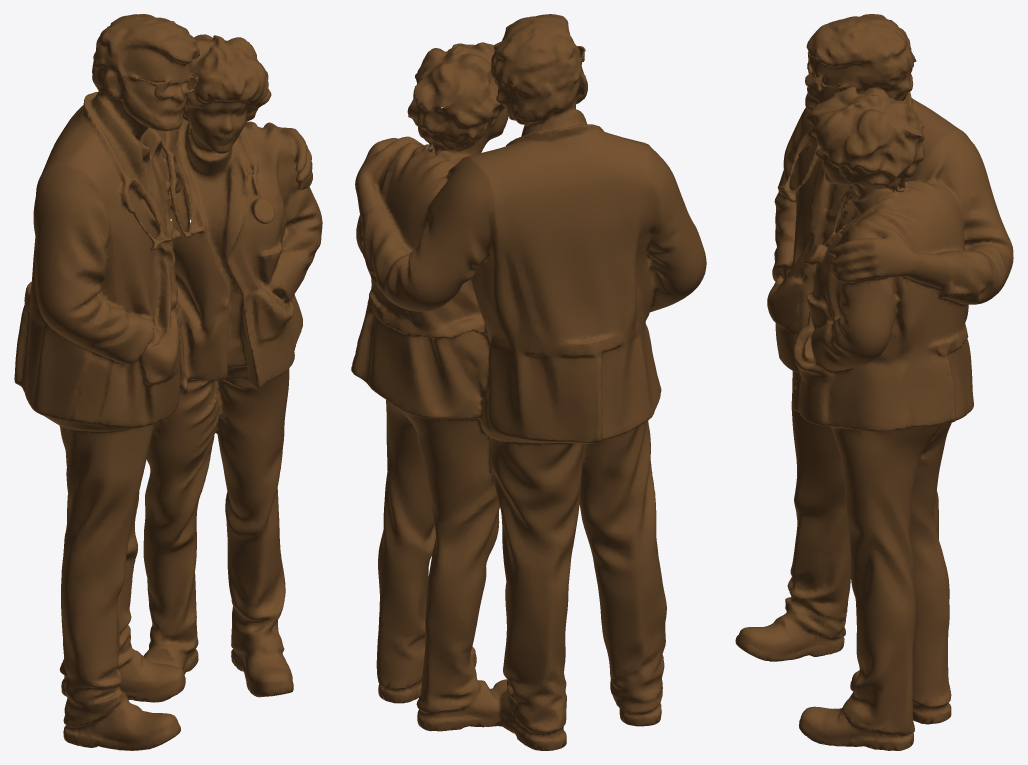
Rendered from alaa-bernadette.glb.
3 views of the same model, side by side, from view 1: azimuth 30°, elevation 25°; view 2: azimuth 150°, elevation 25°; view 3: azimuth 270°, elevation 25° (orthographic). The views are drawn at different scales.
Bounding box in the file's own units: 0.4706 × 1 × 0.379.
